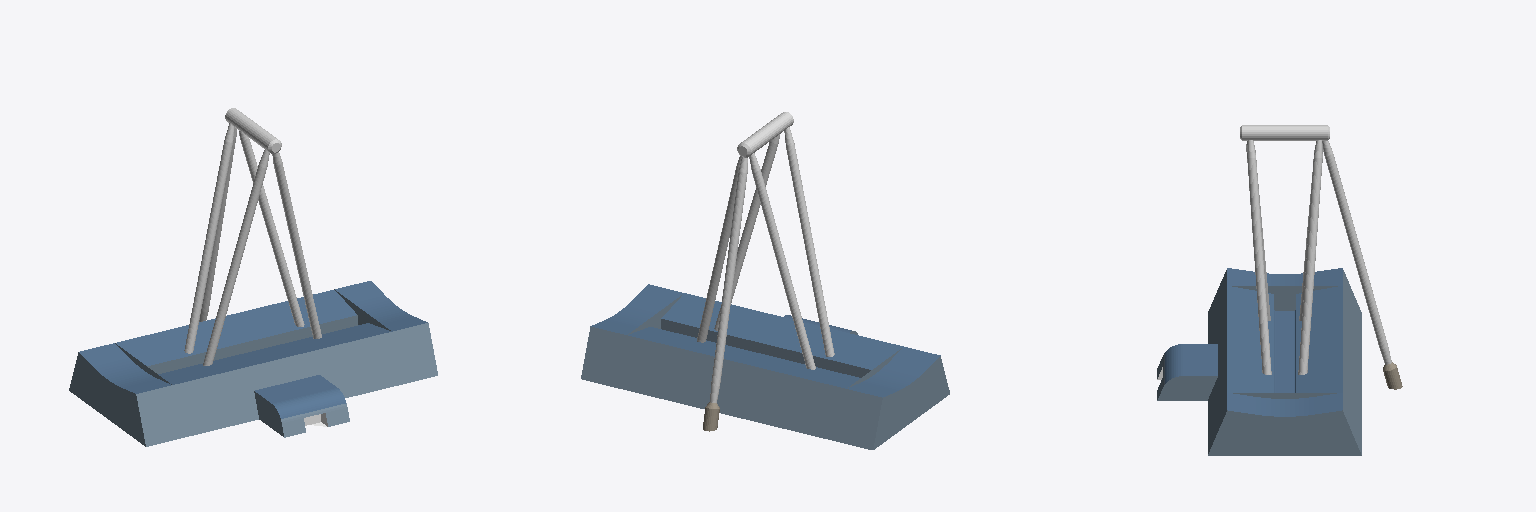
File: ferriswheelbase.obj
The picture shows the model from 3 angles: view 1: azimuth 30°, elevation 25°; view 2: azimuth 150°, elevation 25°; view 3: azimuth 270°, elevation 25°; orthographic projection.
Parts seen in each view (by area): view 1: Nimbasa_City.001; view 2: Nimbasa_City.001; view 3: Nimbasa_City.001.
Part boxes in pixels (left/top/right/bottom): Nimbasa_City.001: left=69, top=108, right=437, bottom=446; Nimbasa_City.001: left=581, top=112, right=949, bottom=449; Nimbasa_City.001: left=1157, top=125, right=1402, bottom=455.
Size of the model in its own units: 9.28 by 7.9 by 6.74.